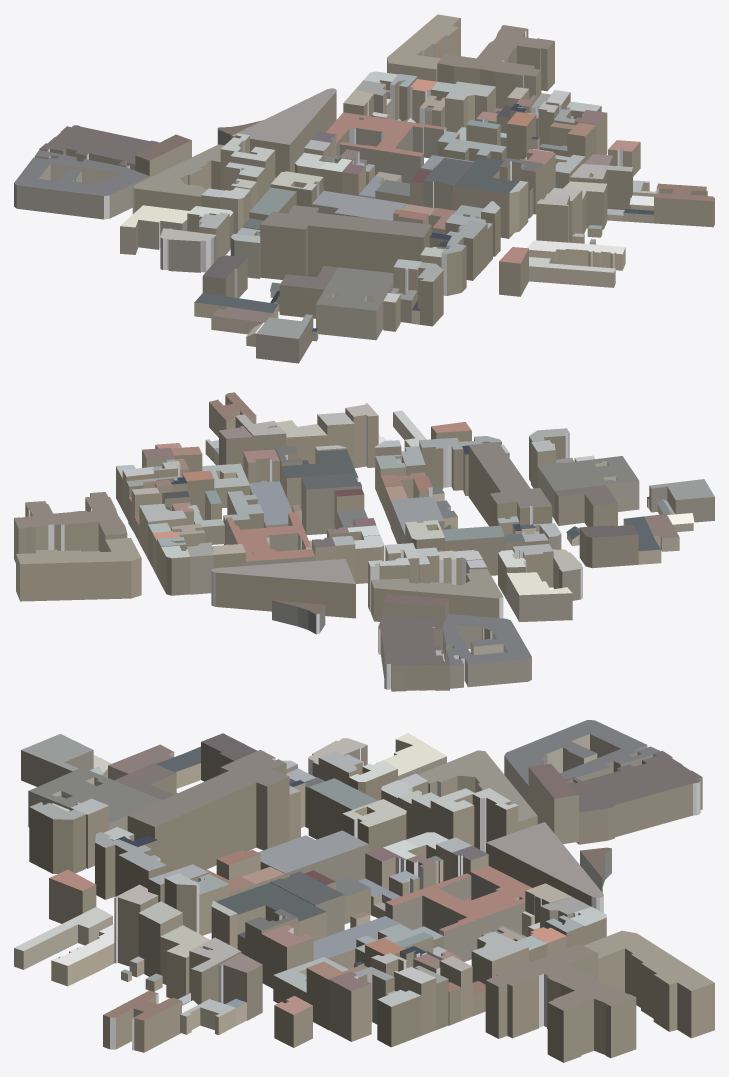
3 views of the same model, one above another, from view 1: azimuth 30°, elevation 25°; view 2: azimuth 150°, elevation 25°; view 3: azimuth 270°, elevation 25° (orthographic). The views are drawn at different scales.
Visible parts, largest first — view 1: tuile; view 2: tuile; view 3: tuile.
Boxes of the visible parts, left/top/right/bottom form: tuile: left=14, top=14, right=714, bottom=363; tuile: left=14, top=392, right=714, bottom=691; tuile: left=14, top=720, right=714, bottom=1062.
Size of the model in its own units: 297 by 31.88 by 276.
